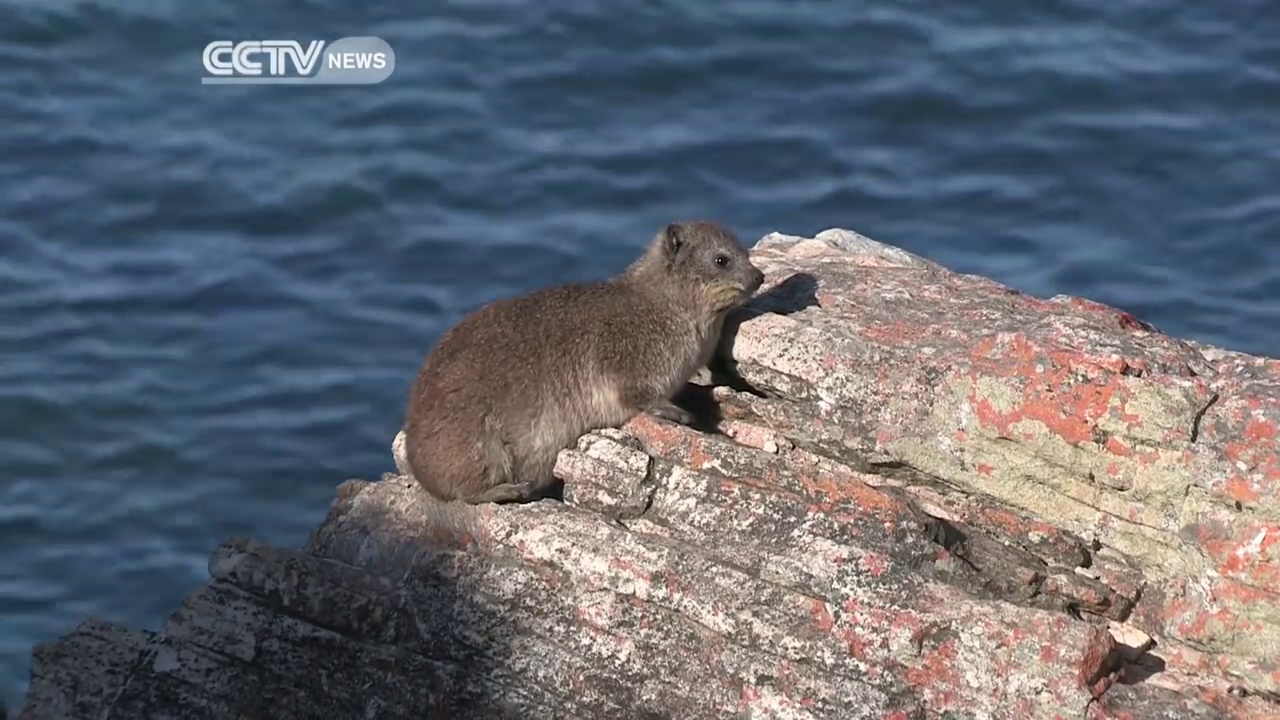Rock Hyrex: (407, 221, 765, 513)
